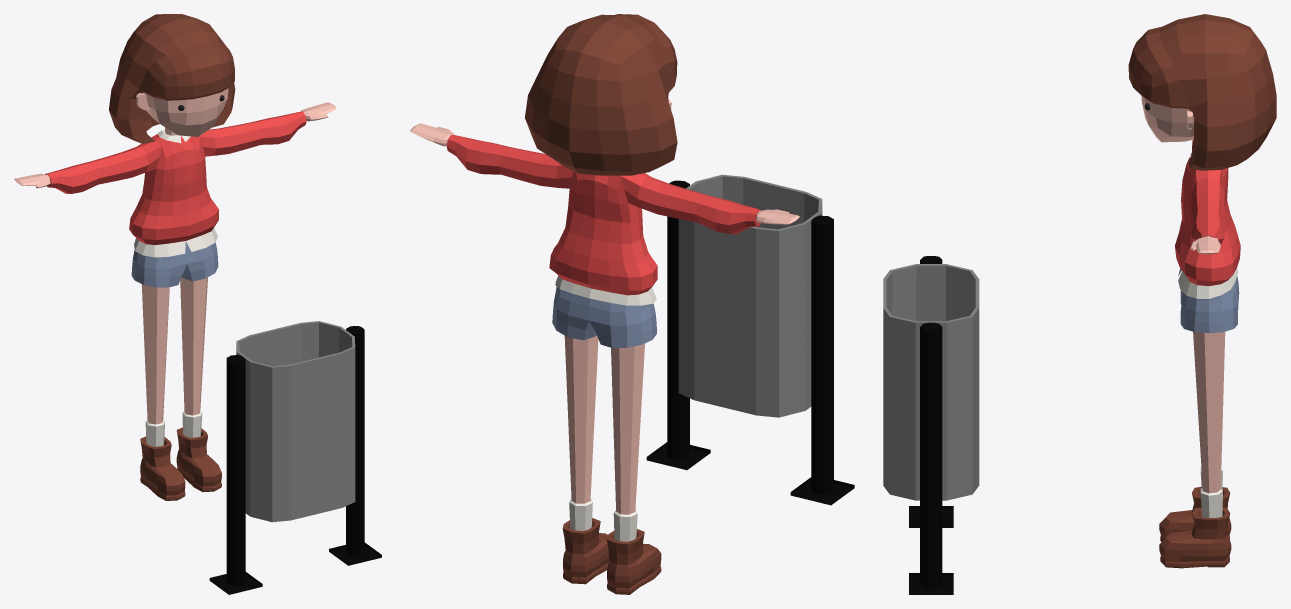
File: Basurero01.fbx
3 renders of one model, left to right at view 1: azimuth 30°, elevation 25°; view 2: azimuth 150°, elevation 25°; view 3: azimuth 270°, elevation 25°, orthographic. The views are drawn at different scales.
Visible parts, largest first — view 1: RumiModel, Basurero; view 2: RumiModel, Basurero; view 3: RumiModel, Basurero.
Part boxes in pixels (<box>): RumiModel: <box>14,14,336,500</box>; Basurero: <box>209,321,381,594</box>; RumiModel: <box>410,14,799,594</box>; Basurero: <box>646,174,854,505</box>; RumiModel: <box>1128,14,1276,568</box>; Basurero: <box>883,256,979,594</box>.
Size of the model in its own units: 118 by 165 by 110.
